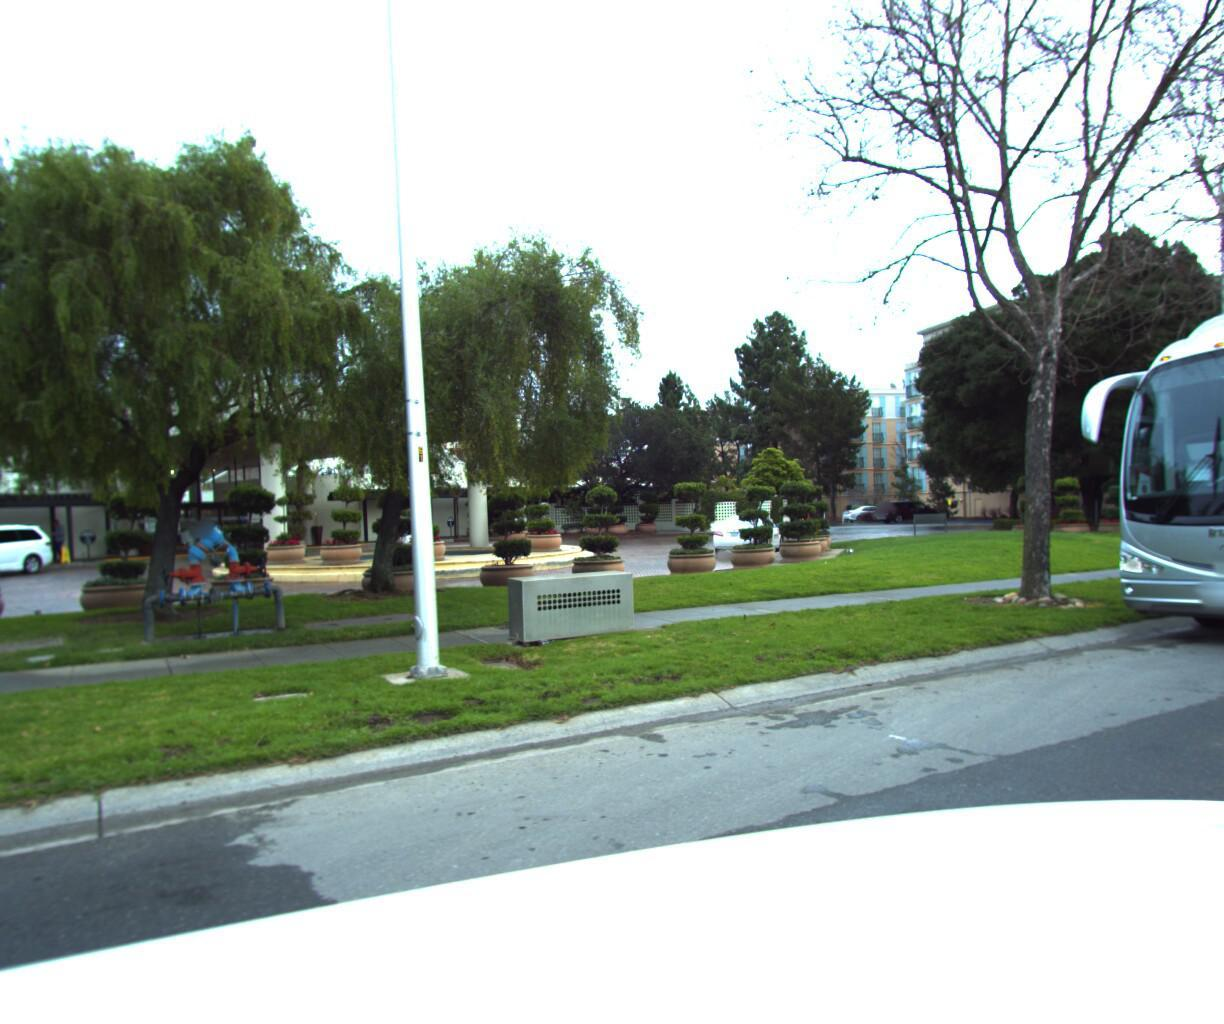bus: (1078, 239, 1224, 672)
car: (711, 502, 800, 555), (0, 518, 68, 587)
